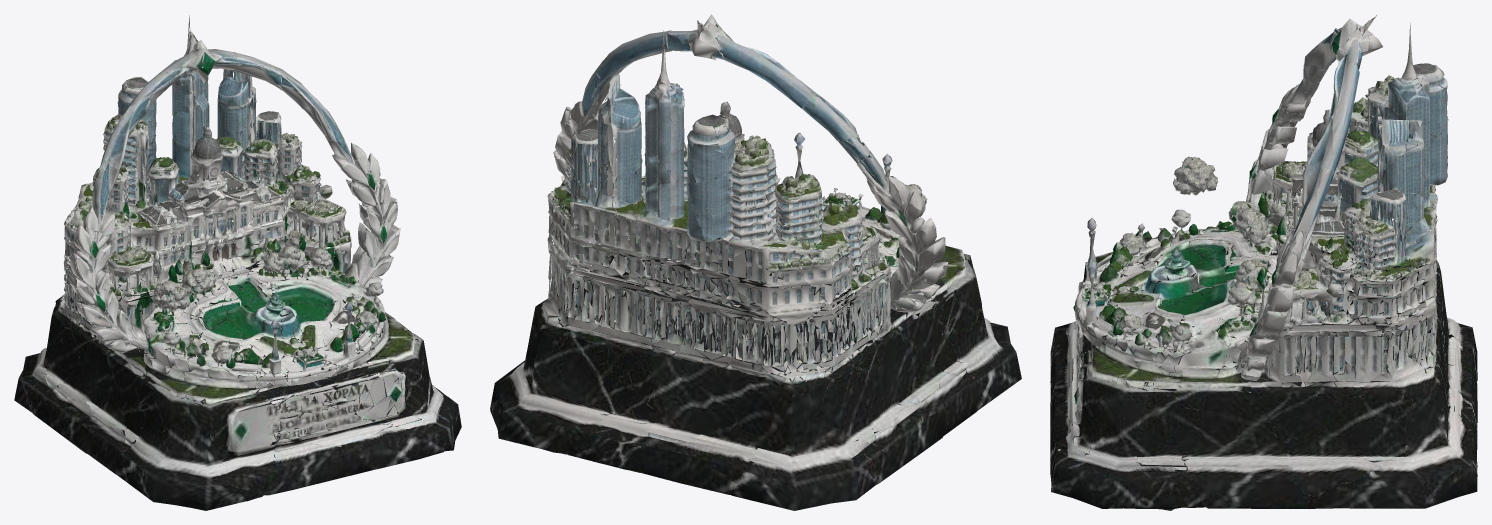
Rendered from award-desislava.glb.
3 renders of one model, left to right at view 1: azimuth 30°, elevation 25°; view 2: azimuth 150°, elevation 25°; view 3: azimuth 270°, elevation 25°, orthographic. The views are drawn at different scales.
Visible parts, largest first — view 1: Mesh_0; view 2: Mesh_0; view 3: Mesh_0.
Boxes of the visible parts, x1=… form: Mesh_0: x1=14, y1=15, x2=461, y2=510; Mesh_0: x1=490, y1=14, x2=1021, y2=510; Mesh_0: x1=1050, y1=14, x2=1477, y2=510.
Size of the model in its own units: 1.83 by 1.91 by 1.81.
1 material, 1 textured.
